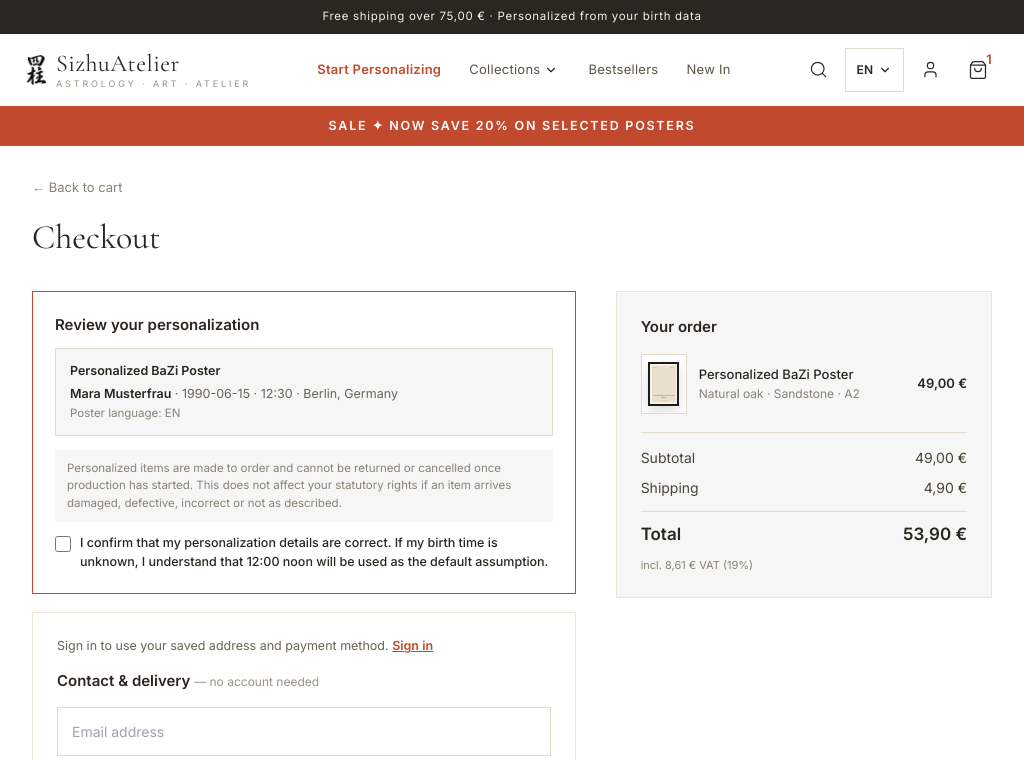
it: personalisierter Warenkorb — Bestätigung + Review-Kasten › shows the confirm card WITH the submitted personalization data and gates the order button
This screenshot has width=1024, height=760.
Check: the element with test id "personalization-confirm-card" is shown, box [32,290,576,594]
Check: the element with test id "personalization-review-box" shows "Mara Musterfrau", box [70,386,171,401]
What coordinates should you click on to do the following:
click the checkbox with test id "personalization-confirm"
I would click on:
 (63, 544)
Its box is [55,536,71,552].
(page scrolled)
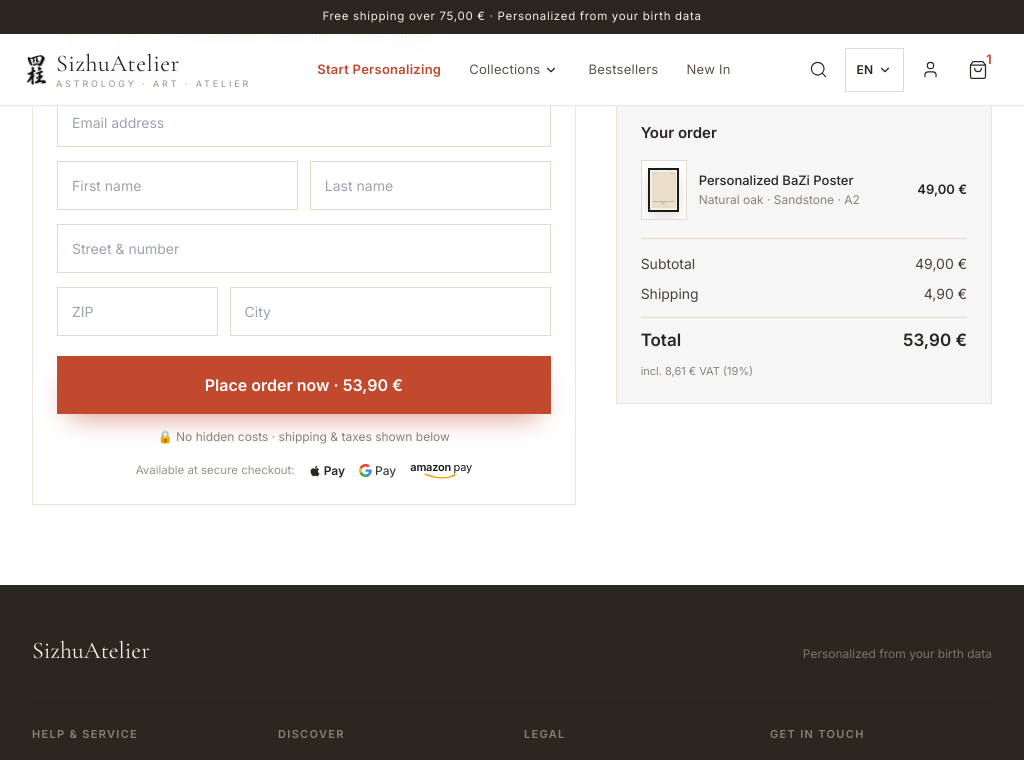
Check: the button "Place order now · 53,90 €" is enabled, box [57,356,551,414]
